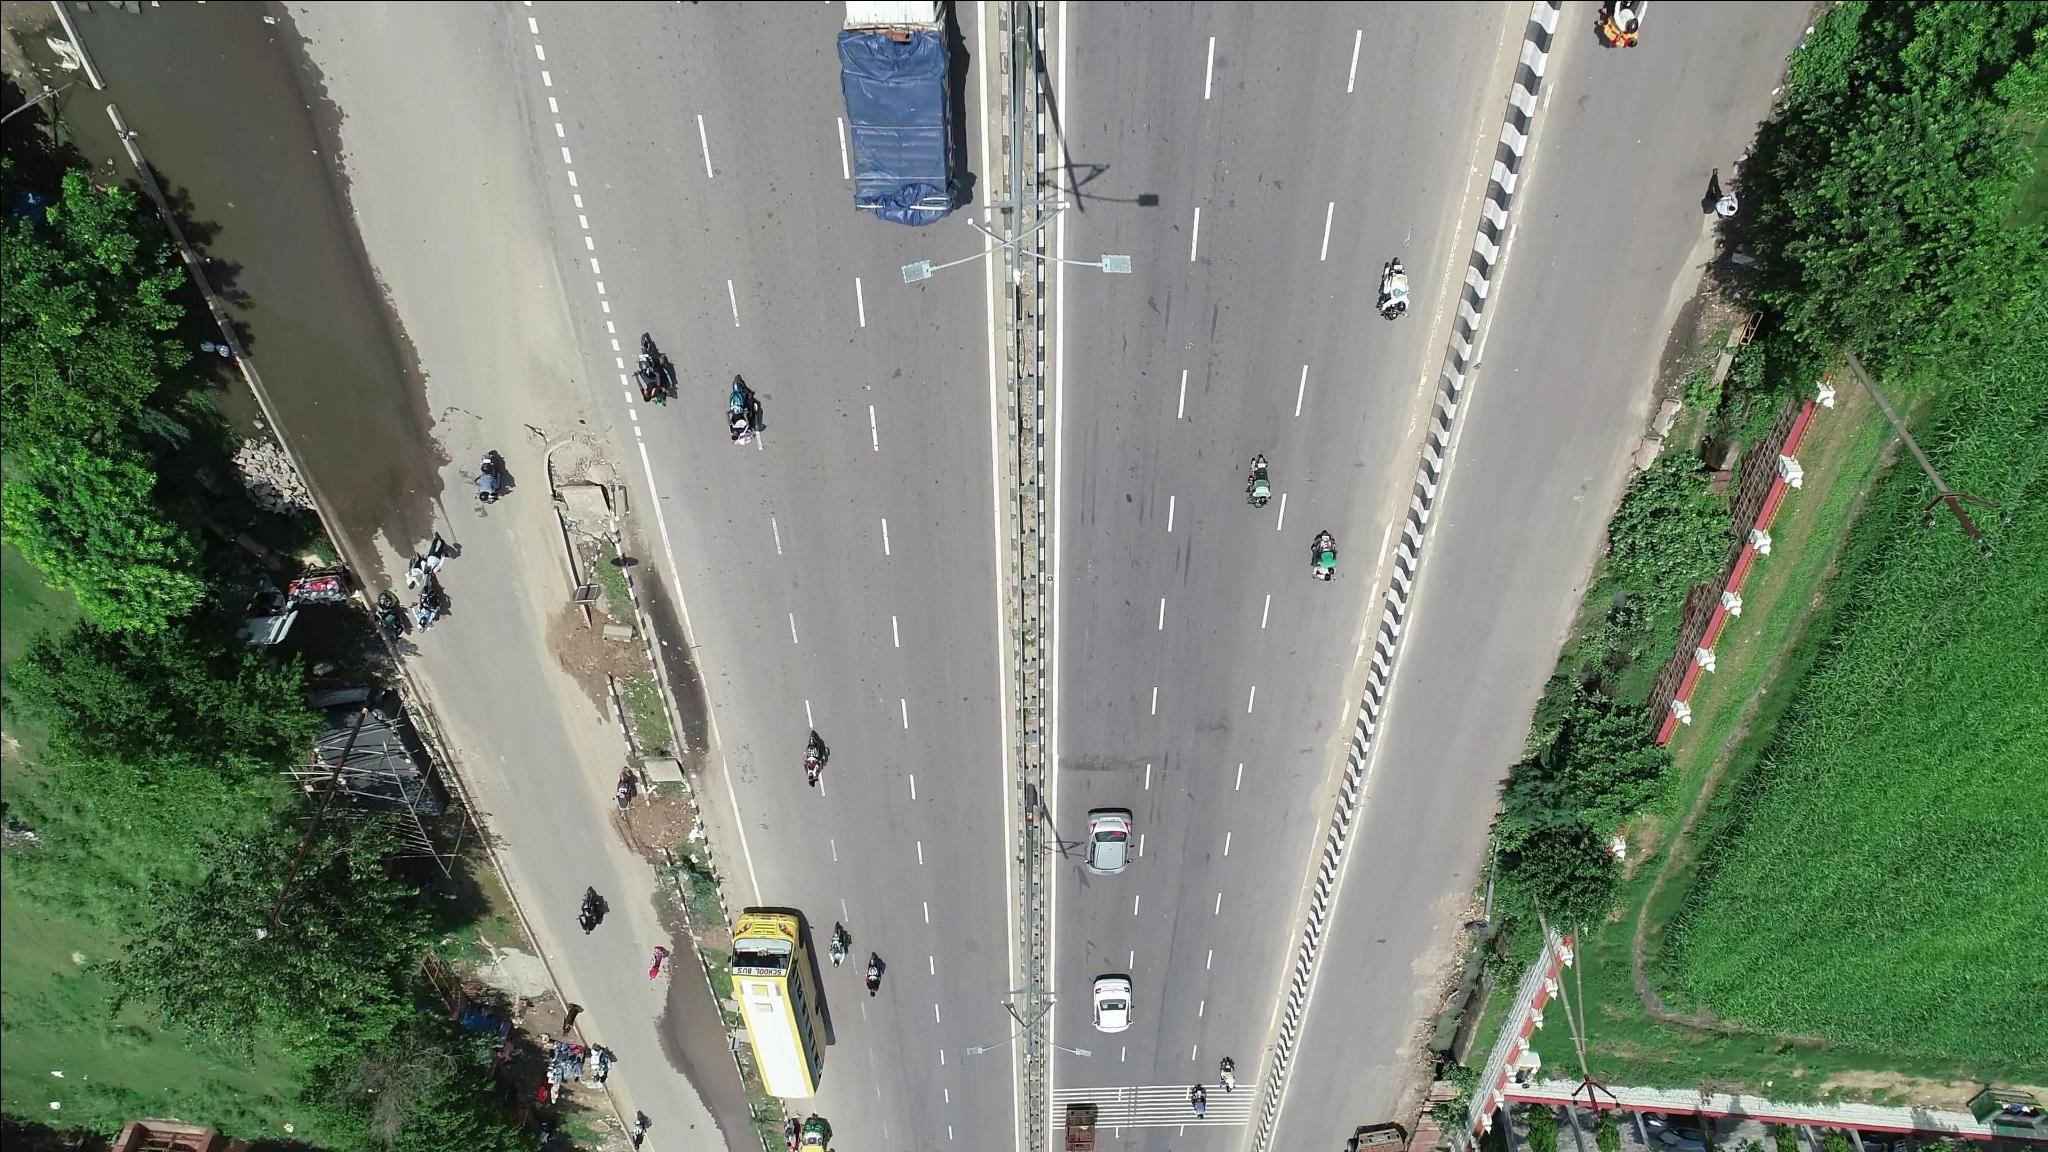Waterlogging: (186, 69, 437, 513), (660, 982, 748, 1146)
